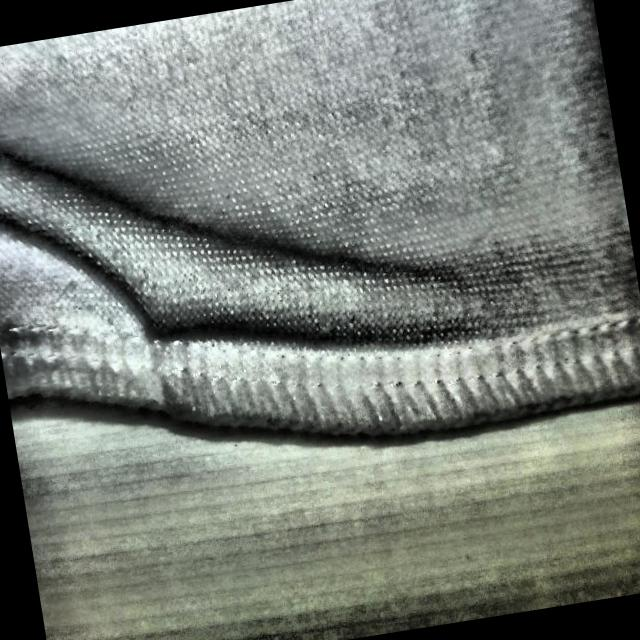gray stitch: (48, 169, 296, 441)
